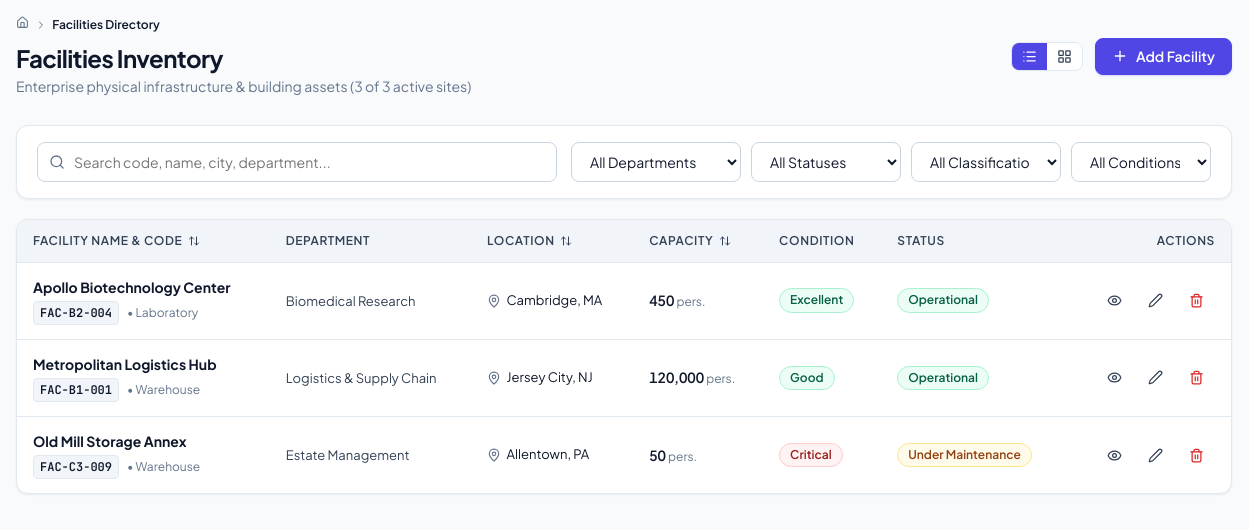
FacilitiesView Search & Filtering › displays empty state when search produces no matching facilities
In the field named "Search facilities": (297, 162) left=37, top=142, right=557, bottom=182, type "NonExistentFacilityQuery123"
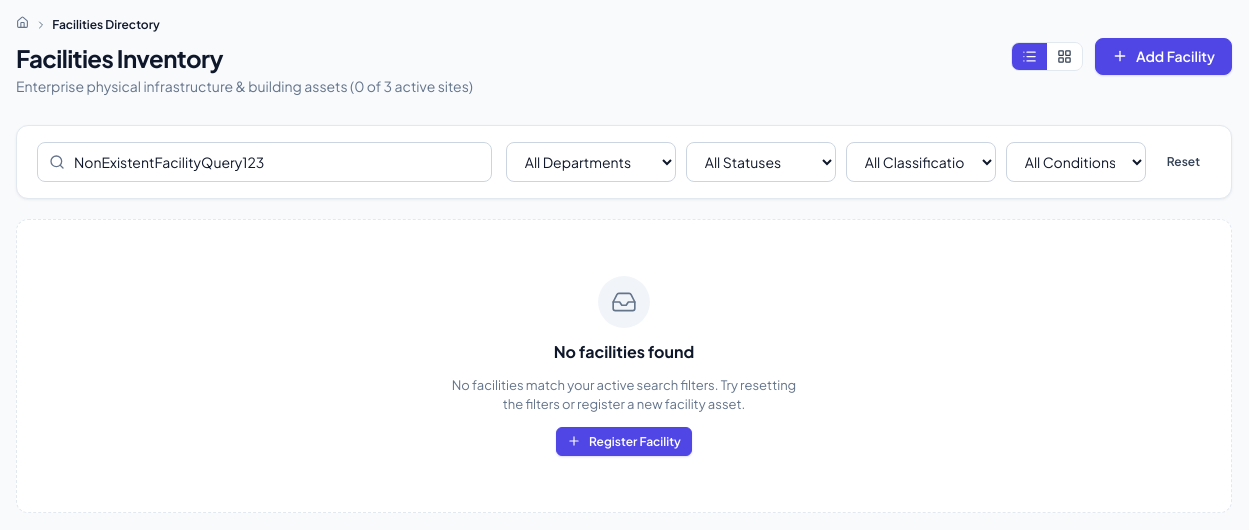
Check: the heading "No facilities found" is shown, box left=554, top=340, right=694, bottom=364
Check: the text "No facilities match your active search filters" is shown, box left=452, top=377, right=796, bottom=412
